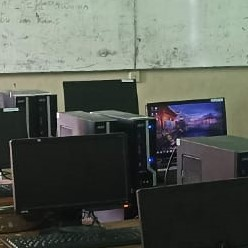monitor: (10, 132, 130, 218), (136, 177, 247, 245), (146, 98, 228, 173), (62, 79, 139, 115)
